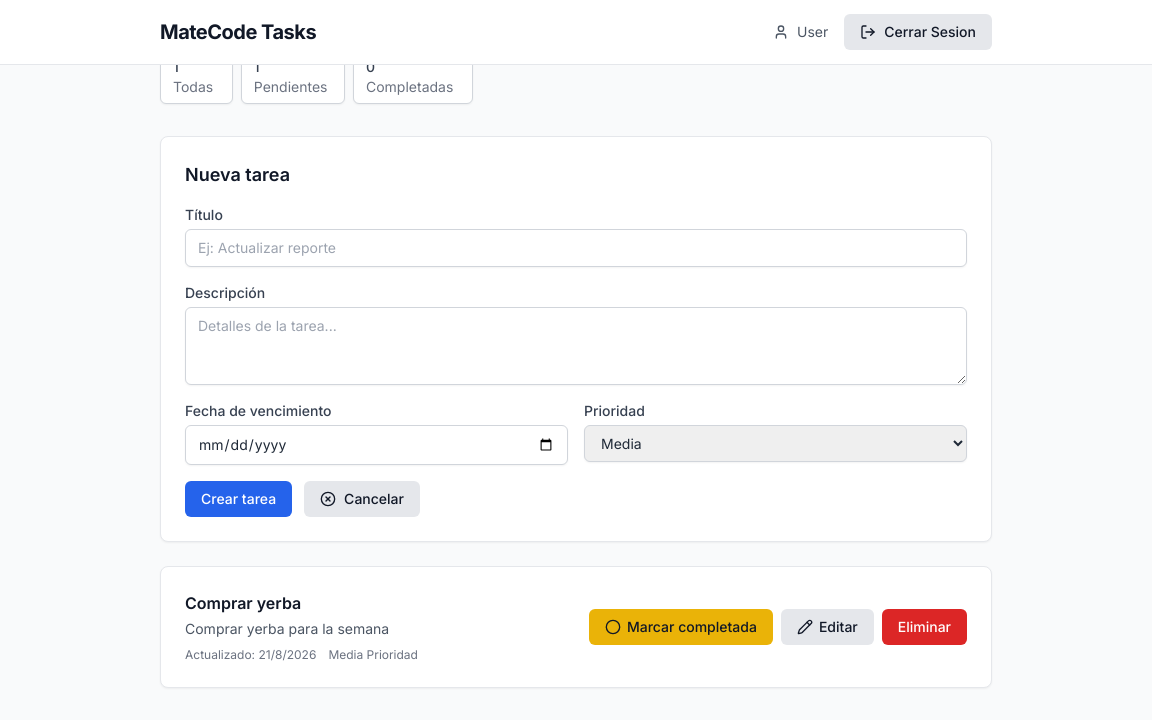
Test: Task edit end-to-end UI flow › Edit → Cancel exits editing instead of creating or retaining stale data
(page scrolled)
Click the button with aria-label "Editar tarea: Comprar yerba".
click(827, 627)  # box [781,609,874,645]
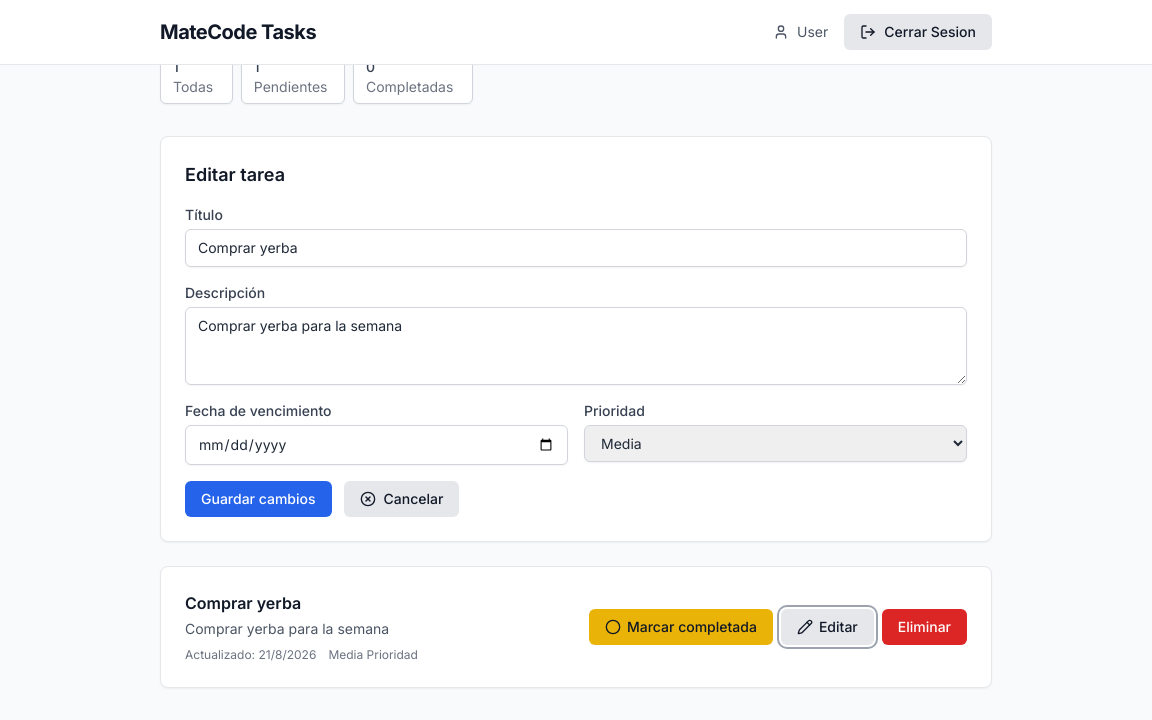
Click the button with aria-label "Cancelar edición de tarea".
click(401, 499)  # box [344,481,459,517]
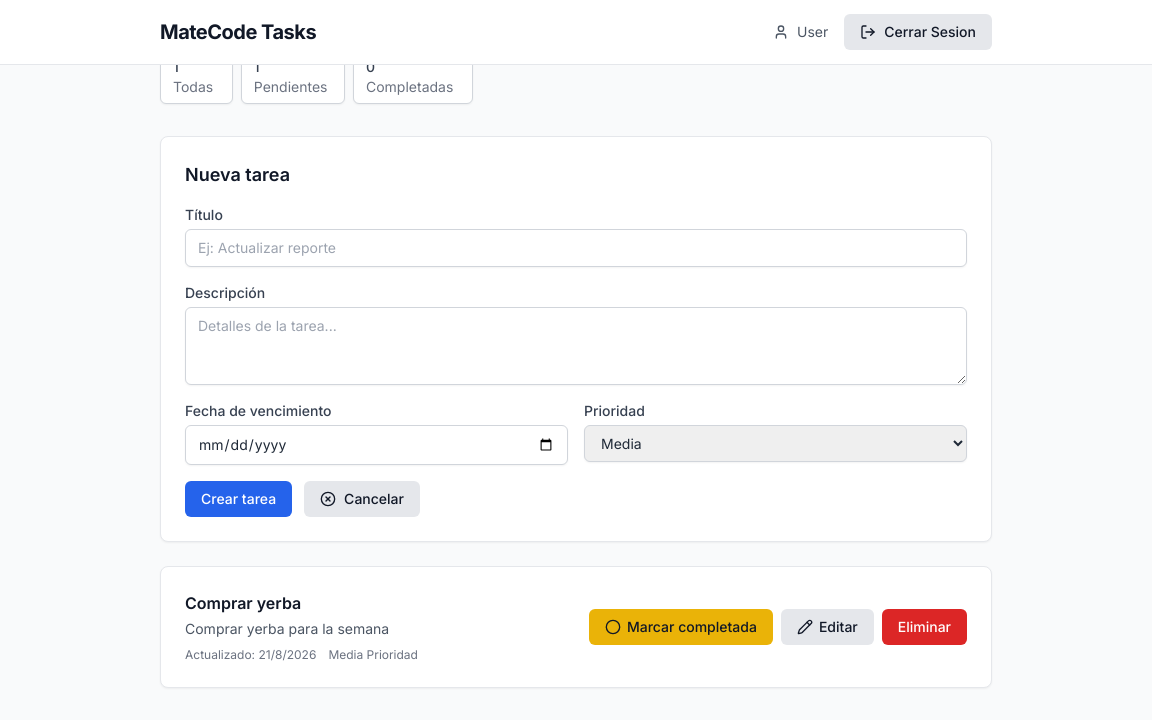
Expected: the heading "Nueva tarea" is shown, [185,164,290,185]
Expected: the field labelled "Título" is empty, [185,229,967,267]
